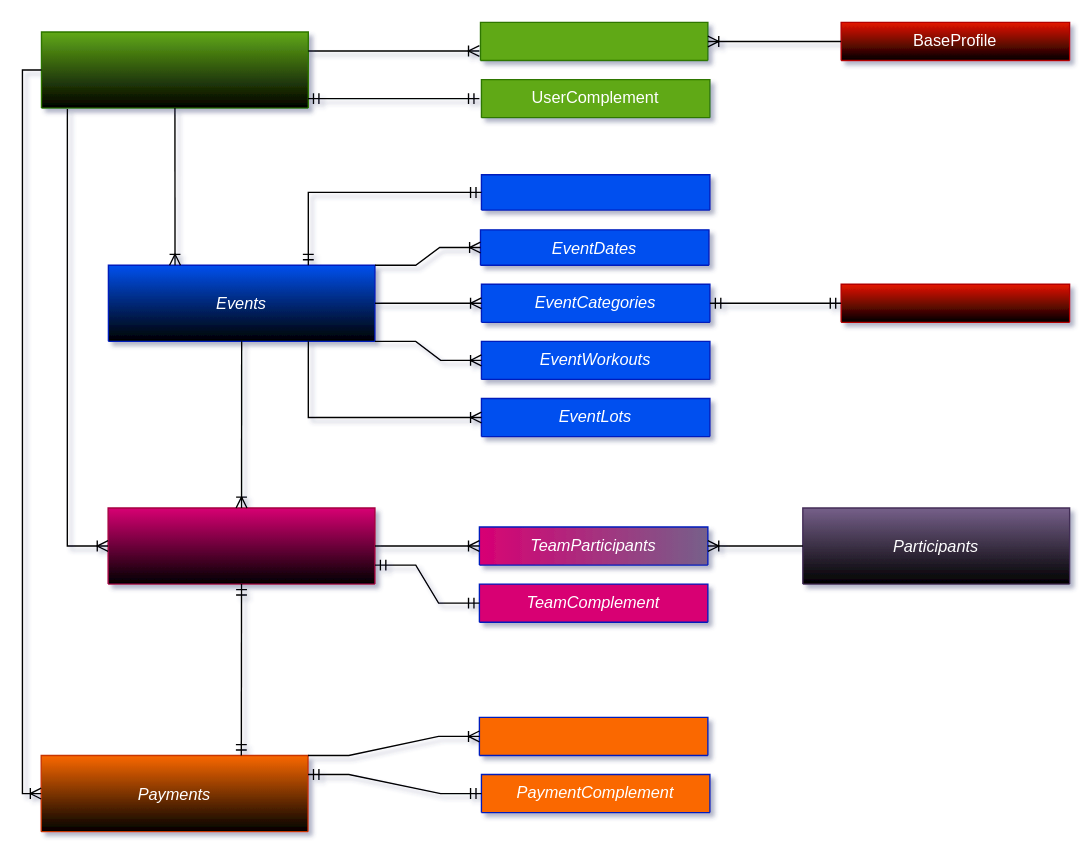
The diagram is 1092 pixels wide and 854 high, and some of its shapes have lost their labels. The centre of each missing label's shape, as x and y in pixels:
"BaseCategories" goes at point 955,302.
"EventComplement" goes at point 595,191.
"PaymentStatus" goes at point 593,735.
"Teams" goes at point 241,545.
"UserProfile" goes at point 593,41.
"Users" goes at point 174,69.
